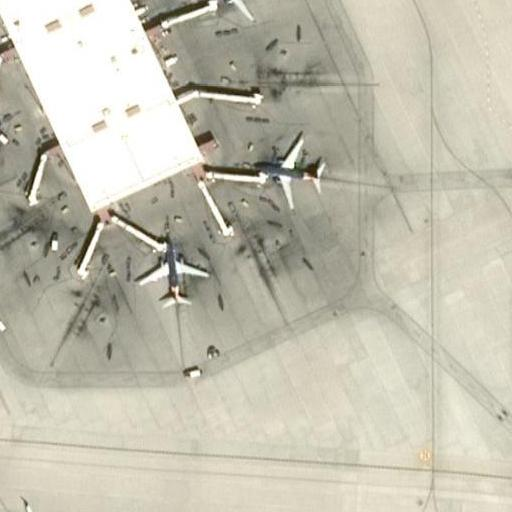Aircraft: (248, 131, 331, 210), (132, 233, 211, 311), (196, 0, 273, 20), (0, 493, 73, 512), (0, 103, 6, 175)
